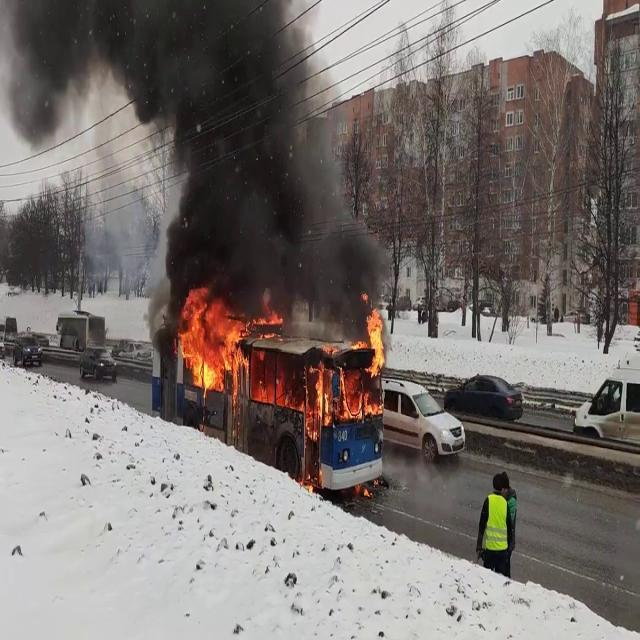Fire: (308, 298, 391, 420), (175, 287, 252, 397), (363, 302, 390, 391)
Smoke: (0, 0, 390, 310), (124, 0, 390, 310)
